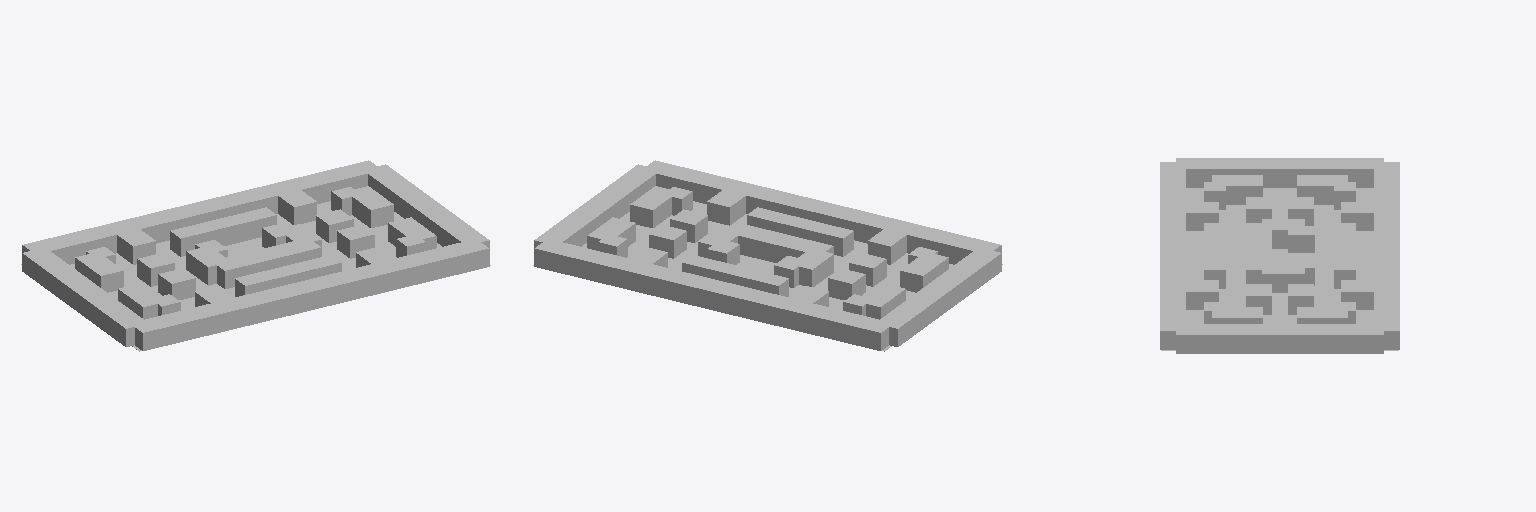
File: Map.obj
The picture shows the model from 3 angles: view 1: azimuth 30°, elevation 25°; view 2: azimuth 150°, elevation 25°; view 3: azimuth 270°, elevation 25°; orthographic projection.
Visible parts, largest first — view 1: Wall_OutBack_Cube.001, Wall_OutFront_Cube, Wall_OutLeft_Cube.002, Wall_OutRight_Cube.003, 0_Ref_Plane, Wall_InFrontMiddle_Cube.017, Square_Middle_Cube.022, Wall_InBackMiddle_Cube.016, L_VertFrontRight_Cube.010, L_VertFrontLeft_Cube.009, Wall_InFrontRight_Cube.005, L_VertBackLeft_Cube.008 (+9 smaller); view 2: Wall_OutFront_Cube, Wall_OutBack_Cube.001, Wall_OutLeft_Cube.002, Wall_OutRight_Cube.003, 0_Ref_Plane, Square_Middle_Cube.022, Wall_InBackMiddle_Cube.016, Wall_InFrontMiddle_Cube.017, L_VertBackRight_Cube.011, L_VertBackLeft_Cube.008, Wall_InBackRight_Cube.006, Square_Left_Cube.023 (+8 smaller); view 3: 0_Ref_Plane, Wall_OutRight_Cube.003, Wall_OutFront_Cube, Wall_OutBack_Cube.001, Wall_OutLeft_Cube.002, Square_Middle_Cube.022, Wall_InBackMiddle_Cube.016, Wall_InFrontMiddle_Cube.017, L_VertBackLeft_Cube.008, L_VertFrontLeft_Cube.009, Square_Right_Cube.024, Wall_InFrontRight_Cube.005 (+11 smaller).
Boxes of the visible parts, x1=… form: Wall_OutBack_Cube.001: x1=132, y1=239, x2=489, y2=350; Wall_OutFront_Cube: x1=22, y1=160, x2=377, y2=264; Wall_OutLeft_Cube.002: x1=22, y1=251, x2=148, y2=346; Wall_OutRight_Cube.003: x1=364, y1=164, x2=489, y2=247; 0_Ref_Plane: x1=21, y1=201, x2=490, y2=351; Wall_InFrontMiddle_Cube.017: x1=170, y1=207, x2=276, y2=256; Square_Middle_Cube.022: x1=216, y1=238, x2=321, y2=288; Wall_InBackMiddle_Cube.016: x1=235, y1=255, x2=341, y2=296; L_VertFrontRight_Cube.010: x1=346, y1=186, x2=393, y2=227; L_VertFrontLeft_Cube.009: x1=75, y1=253, x2=123, y2=292; Wall_InFrontRight_Cube.005: x1=274, y1=186, x2=316, y2=224; L_VertBackLeft_Cube.008: x1=118, y1=283, x2=165, y2=319; Wall_OutFront_Cube: x1=534, y1=242, x2=891, y2=350; Wall_OutBack_Cube.001: x1=644, y1=160, x2=1001, y2=264; Wall_OutLeft_Cube.002: x1=880, y1=248, x2=1001, y2=346; Wall_OutRight_Cube.003: x1=534, y1=164, x2=659, y2=247; 0_Ref_Plane: x1=533, y1=201, x2=1002, y2=351; Square_Middle_Cube.022: x1=724, y1=222, x2=833, y2=262; Wall_InBackMiddle_Cube.016: x1=747, y1=207, x2=853, y2=256; Wall_InFrontMiddle_Cube.017: x1=682, y1=255, x2=788, y2=296; L_VertBackRight_Cube.011: x1=630, y1=186, x2=677, y2=227; L_VertBackLeft_Cube.008: x1=900, y1=252, x2=948, y2=292; Wall_InBackRight_Cube.006: x1=707, y1=186, x2=748, y2=225; Square_Left_Cube.023: x1=790, y1=252, x2=833, y2=286; 0_Ref_Plane: x1=1161, y1=188, x2=1398, y2=350; Wall_OutRight_Cube.003: x1=1176, y1=324, x2=1383, y2=353; Wall_OutFront_Cube: x1=1374, y1=162, x2=1399, y2=349; Wall_OutBack_Cube.001: x1=1160, y1=162, x2=1185, y2=349; Wall_OutLeft_Cube.002: x1=1176, y1=158, x2=1383, y2=187; Square_Middle_Cube.022: x1=1246, y1=223, x2=1271, y2=283; Wall_InBackMiddle_Cube.016: x1=1204, y1=223, x2=1225, y2=288; Wall_InFrontMiddle_Cube.017: x1=1334, y1=223, x2=1355, y2=288; L_VertBackLeft_Cube.008: x1=1212, y1=175, x2=1262, y2=204; L_VertFrontLeft_Cube.009: x1=1297, y1=175, x2=1347, y2=204; Square_Right_Cube.024: x1=1262, y1=263, x2=1304, y2=292; Wall_InFrontRight_Cube.005: x1=1341, y1=280, x2=1383, y2=309.
Bounding box in the file's own units: 165 × 8.09 × 94.57.